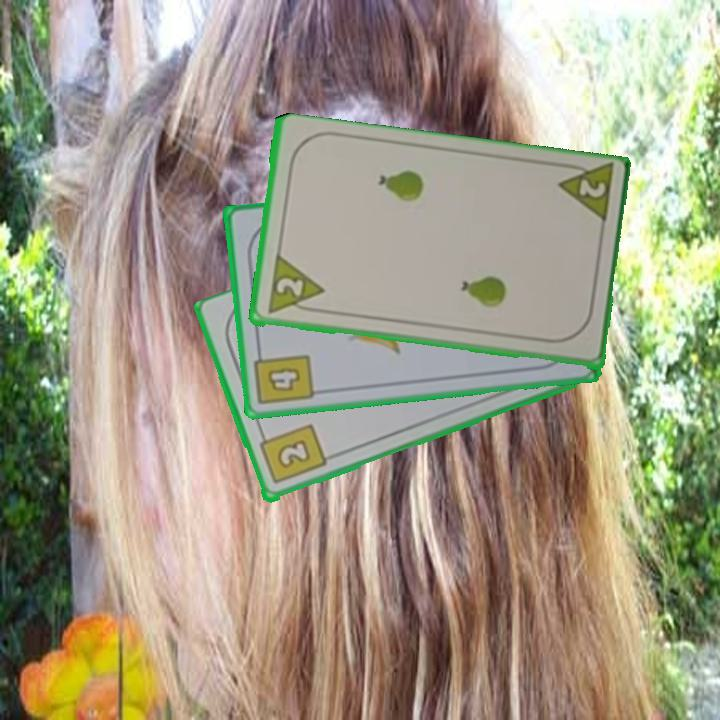2b: (256, 421, 329, 488)
2p: (553, 159, 616, 229), (263, 254, 326, 318)
4b: (251, 344, 317, 409)
